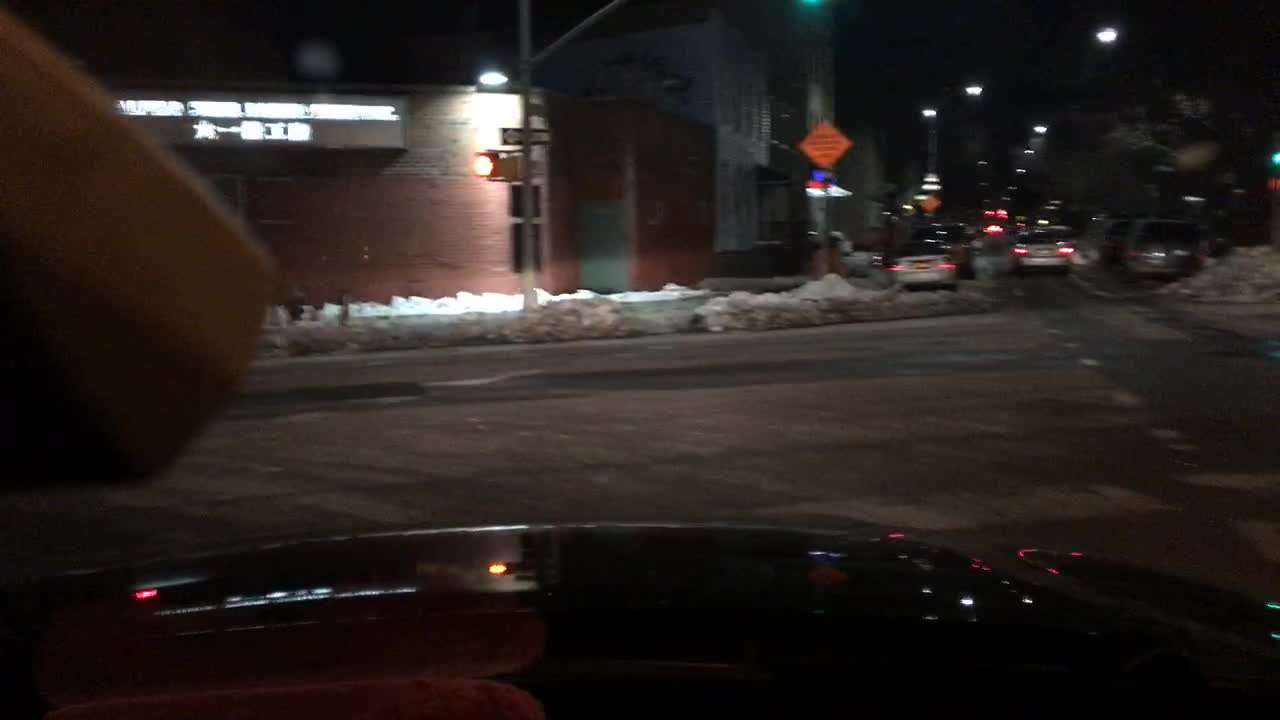car: (1120, 210, 1201, 285), (885, 237, 955, 296), (1010, 222, 1075, 278), (919, 220, 975, 277), (1095, 219, 1125, 263), (828, 227, 855, 255), (965, 223, 990, 252), (983, 226, 1001, 235)
traffic light: (469, 150, 501, 179), (501, 152, 526, 185), (1267, 149, 1279, 167)
traffic sign: (797, 121, 850, 168), (499, 127, 550, 145), (813, 168, 837, 187), (519, 112, 547, 127)
